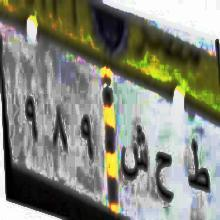7aa: (152, 139, 176, 209)
8: (50, 96, 69, 164)
9: (21, 88, 42, 152), (78, 107, 97, 166)
Taa: (182, 130, 216, 204)
sheen: (121, 121, 151, 191)
